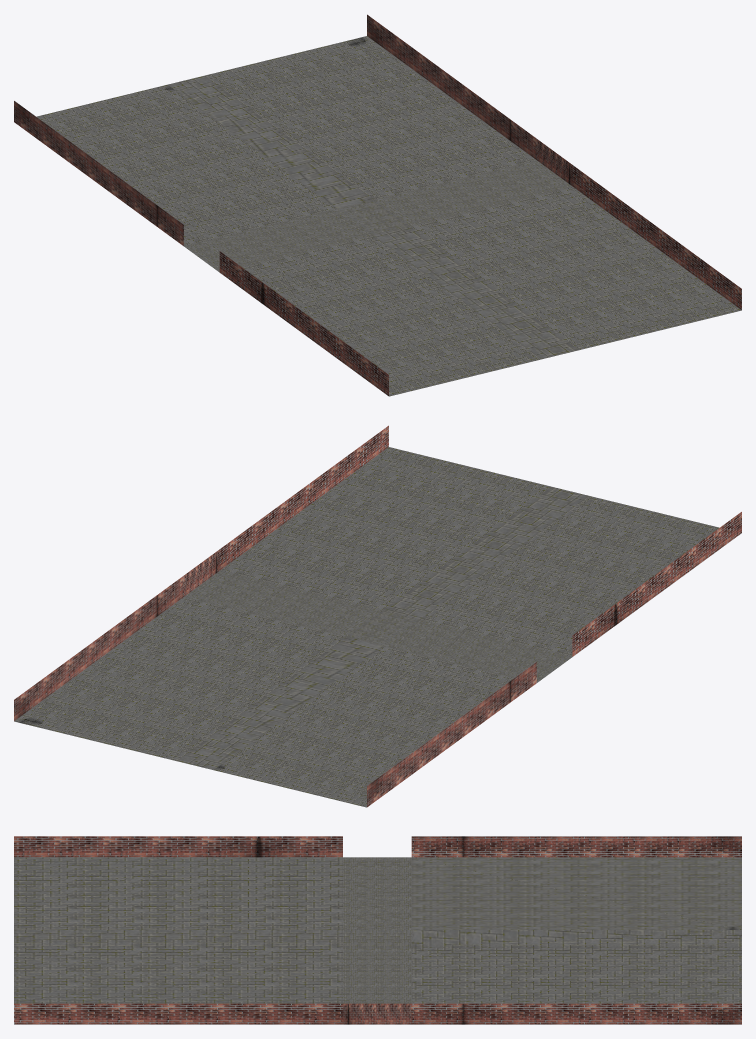
File: Railway Base.fbx
3 renders of one model, top to bottom at view 1: azimuth 30°, elevation 25°; view 2: azimuth 150°, elevation 25°; view 3: azimuth 270°, elevation 25°, orthographic. The views are drawn at different scales.
Visible parts, largest first — view 1: Airport Base.001; view 2: Airport Base.001; view 3: Airport Base.001.
Part boxes in pixels (x1,y1,x2,y2): Airport Base.001: [14, 14, 741, 396]; Airport Base.001: [14, 425, 741, 807]; Airport Base.001: [14, 836, 741, 1024].
Bounding box in the file's own units: 10870 × 637 × 20008.
Materials: 1 (1 with a texture image).
